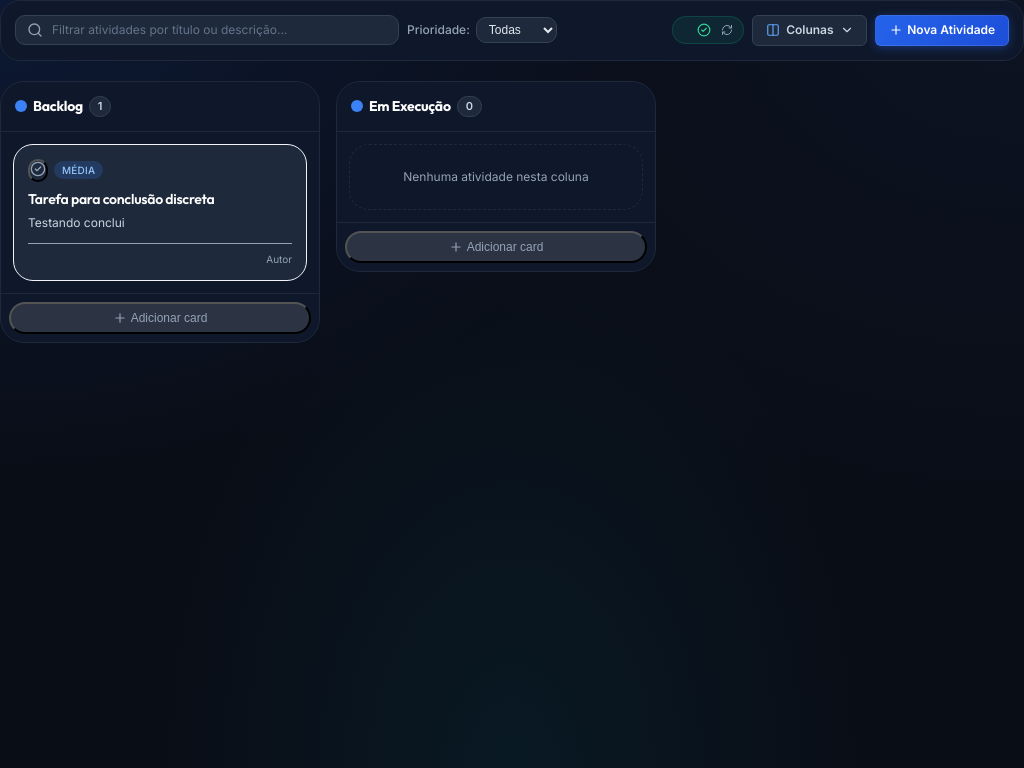
it: UI Components & Pages Tests › discreetly updates task concluded state without crashing or reloading board
Expected: the heading "Tarefa para conclusão discreta" is shown, x1=28 y1=190 x2=214 y2=208
What coordinates should you click on to do the following:
click the button named "Marcar como concluída"
I would click on:
 (38, 170)
Its box is x1=28 y1=159 x2=48 y2=182.
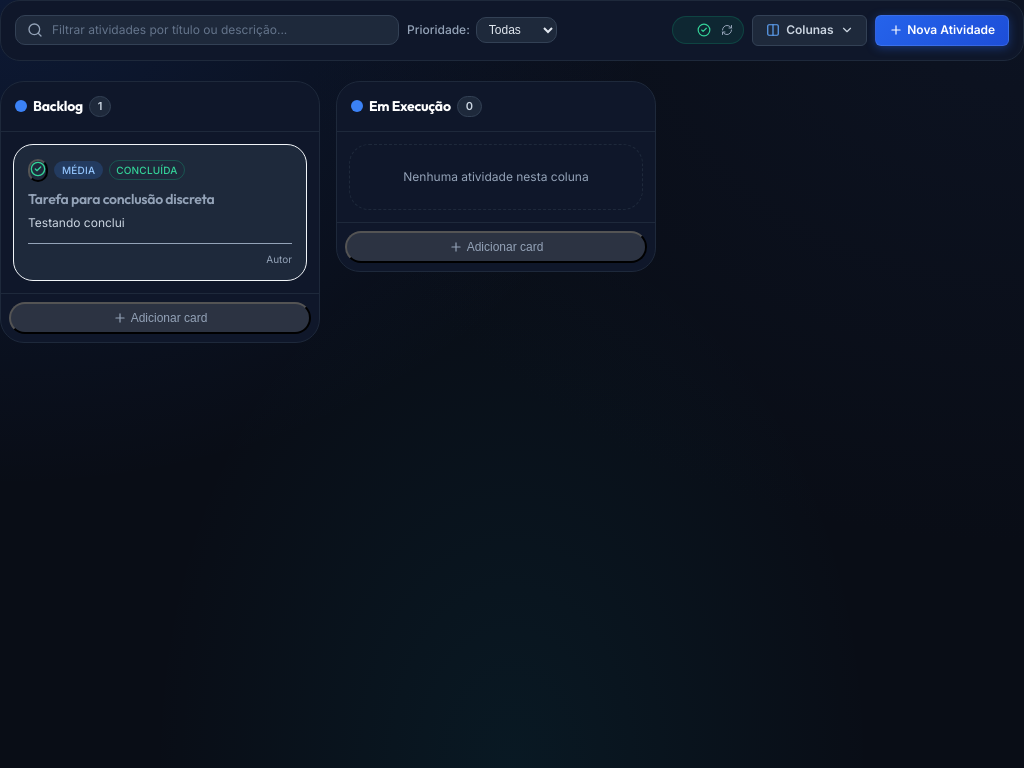
Now the button named "Marcar como pendente" is shown, box x1=28 y1=159 x2=48 y2=182
